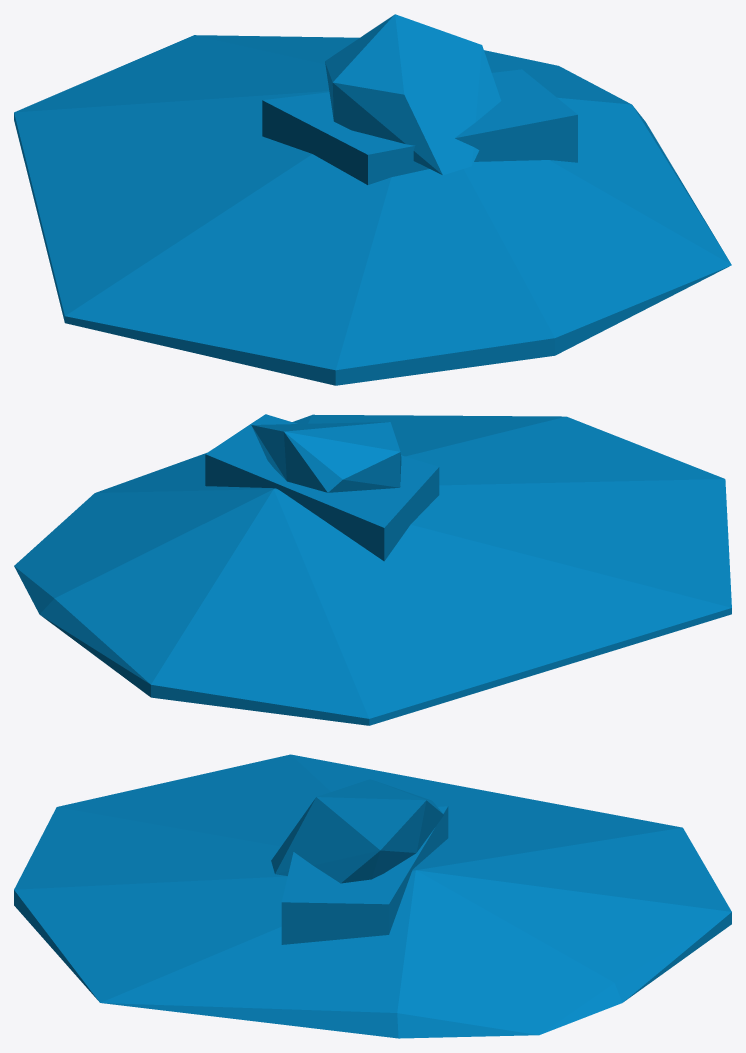
The model's file is Obstacle_04_Colllider_01.FBX.
3 views of the same model, one above another, from view 1: azimuth 30°, elevation 25°; view 2: azimuth 150°, elevation 25°; view 3: azimuth 270°, elevation 25° (orthographic). The views are drawn at different scales.
Visible parts, largest first — view 1: COLLIDER_3, COLLIDER_1, COLLIDER_2; view 2: COLLIDER_3, COLLIDER_2, COLLIDER_1; view 3: COLLIDER_3, COLLIDER_1, COLLIDER_2.
Boxes of the visible parts, x1=… form: COLLIDER_3: x1=14, y1=35, x2=731, y2=385; COLLIDER_1: x1=325, y1=14, x2=501, y2=175; COLLIDER_2: x1=262, y1=69, x2=577, y2=184; COLLIDER_3: x1=14, y1=414, x2=731, y2=725; COLLIDER_2: x1=205, y1=414, x2=439, y2=561; COLLIDER_1: x1=251, y1=422, x2=401, y2=492; COLLIDER_3: x1=14, y1=754, x2=731, y2=1038; COLLIDER_1: x1=271, y1=779, x2=443, y2=883; COLLIDER_2: x1=281, y1=806, x2=448, y2=944.
Size of the model in its own units: 194 by 44.34 by 211.
